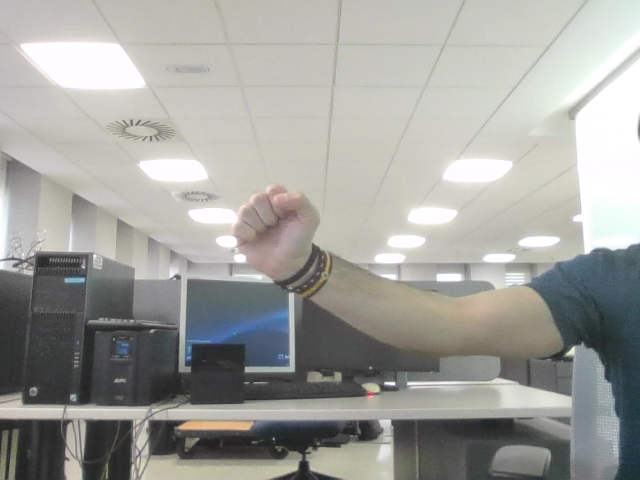Puño: (237, 194, 305, 241)
